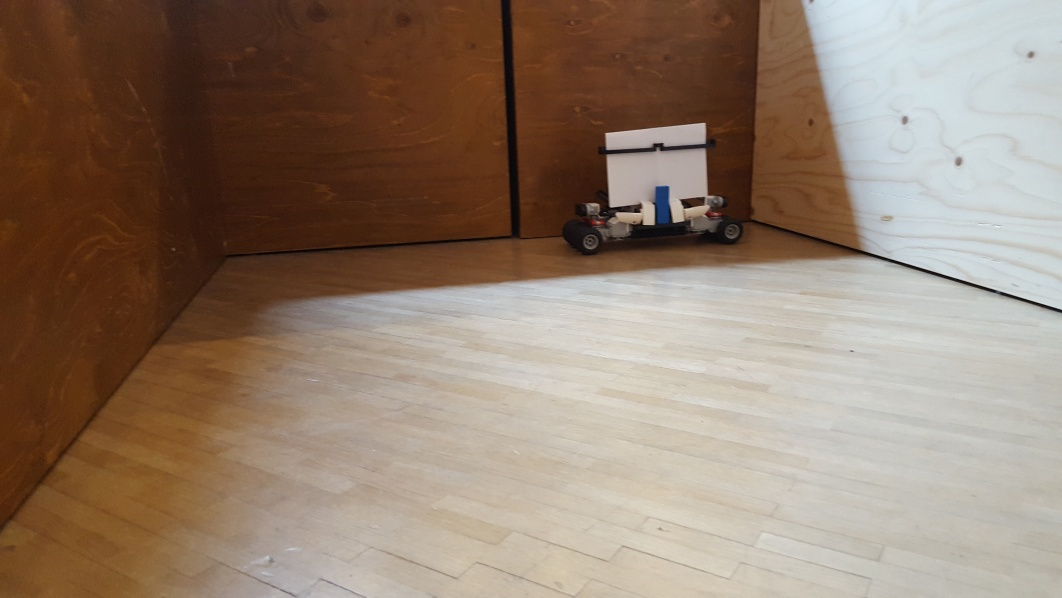beam: (652, 182, 672, 225)
